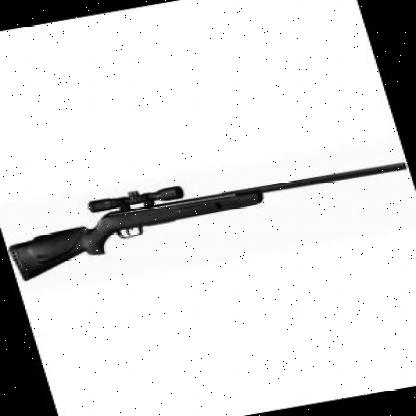rifle: (0, 135, 416, 277)
